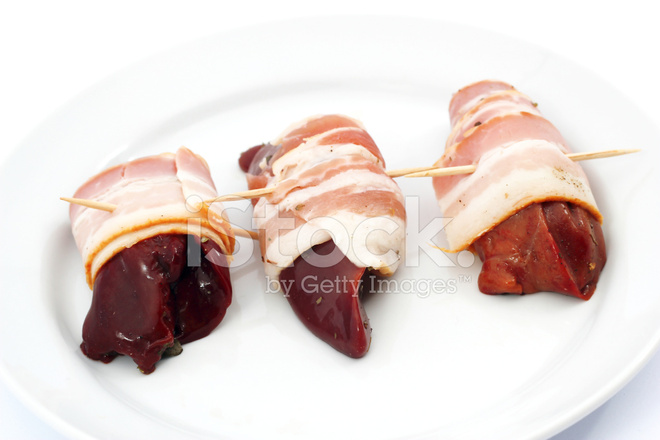bacon: (439, 67, 577, 264), (249, 113, 391, 290), (67, 153, 227, 264)
